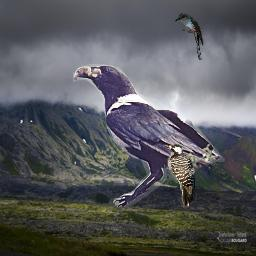Crow: (73, 64, 225, 207)
Cuckoo: (175, 13, 204, 60)
Woodpecker: (163, 144, 195, 209)
